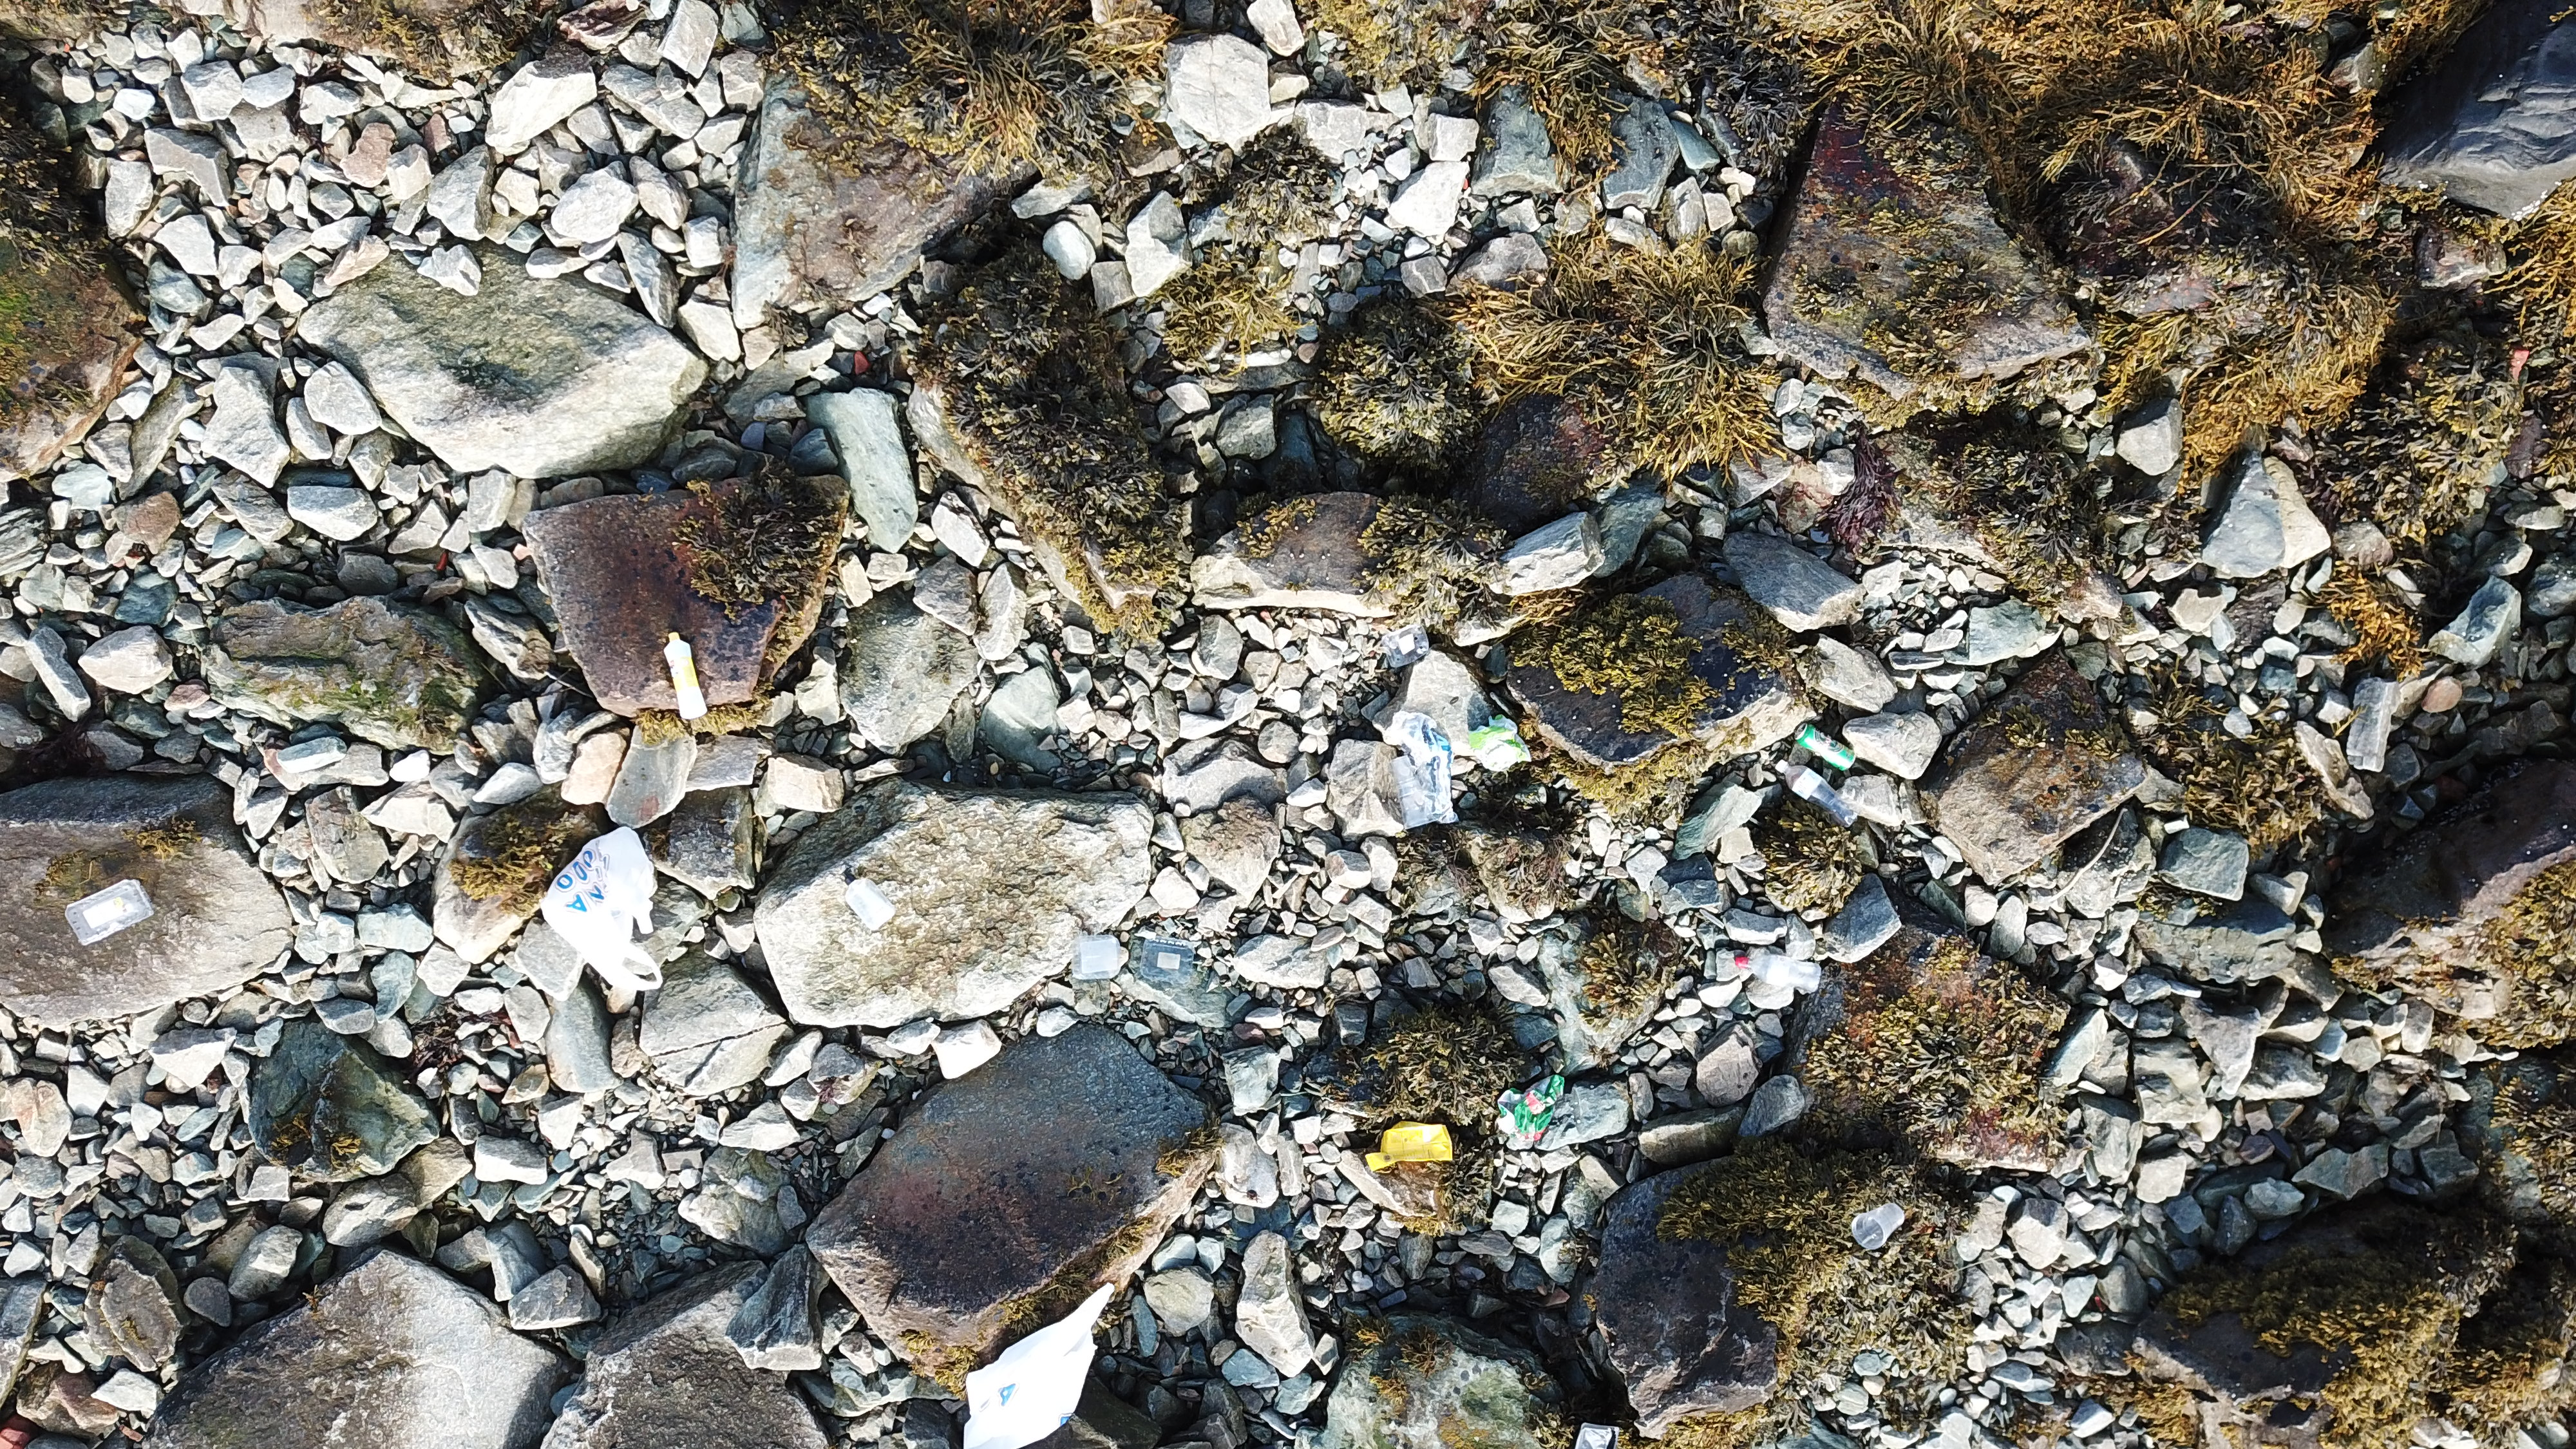Can: (1794, 724, 1856, 771)
Plastic: (964, 1281, 1115, 1449), (540, 826, 663, 991), (1385, 709, 1460, 823), (62, 878, 156, 945), (1497, 1076, 1566, 1146), (1366, 1120, 1453, 1175), (662, 632, 708, 718), (1734, 955, 1822, 994), (1472, 715, 1530, 771), (1389, 757, 1433, 826), (846, 878, 897, 931), (1139, 936, 1196, 982), (1851, 1203, 1904, 1251), (1070, 936, 1120, 980), (1575, 1422, 1621, 1449)
PlasticBottle: (1771, 761, 1858, 828)
